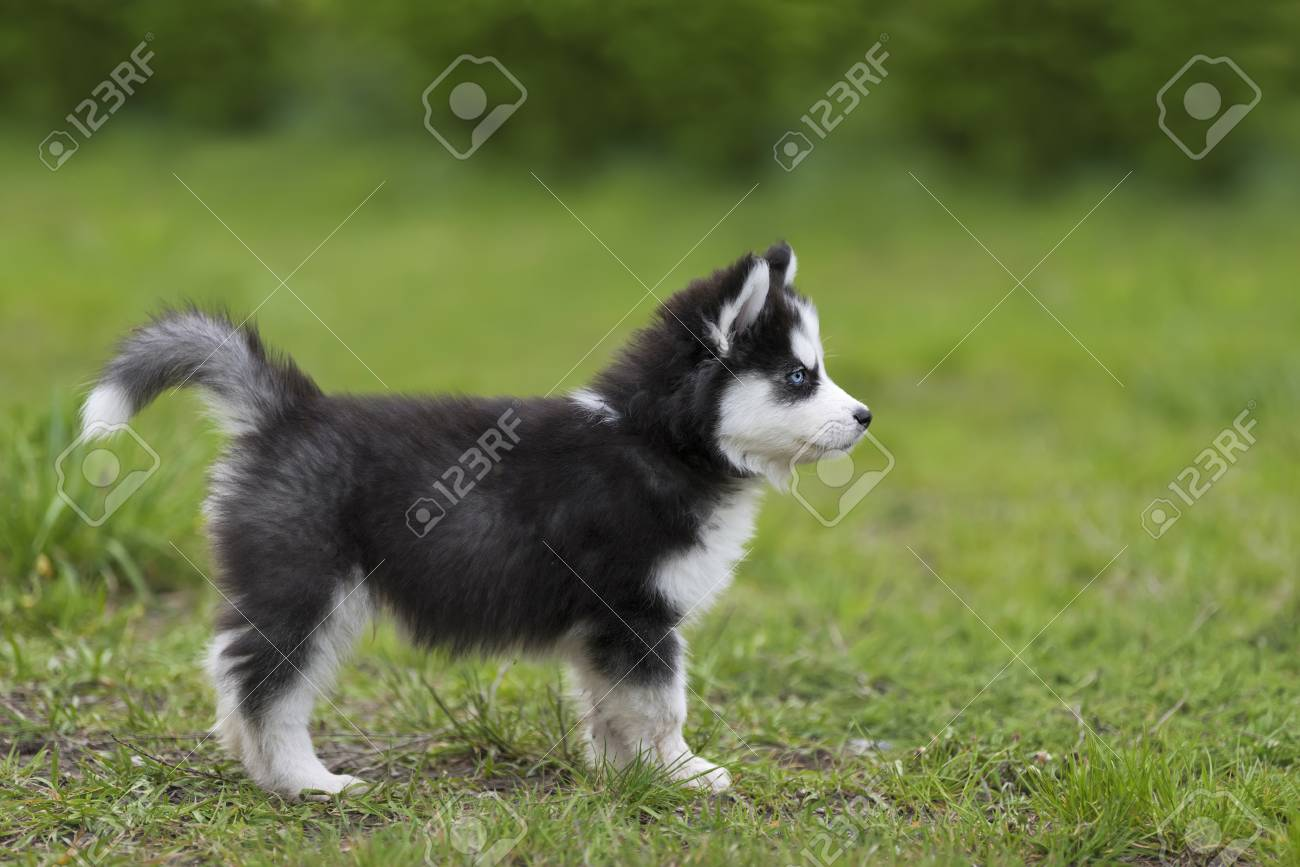husky: (126, 234, 901, 797)
